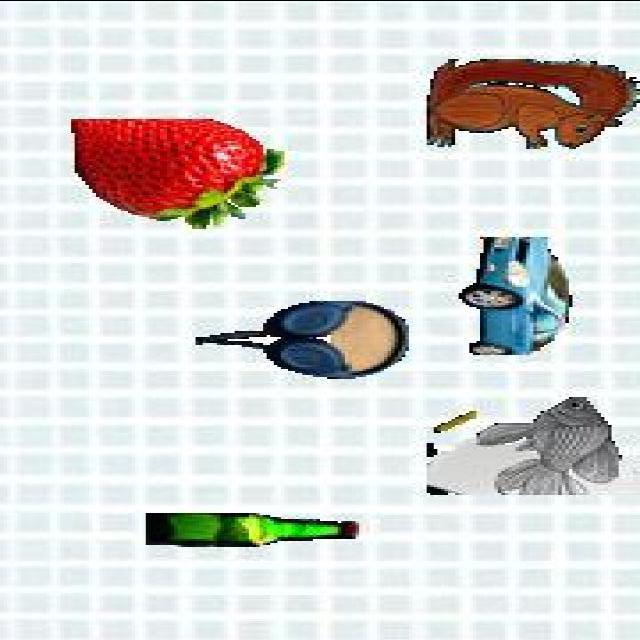Other Objects: (194, 298, 412, 379), (144, 511, 358, 547)
